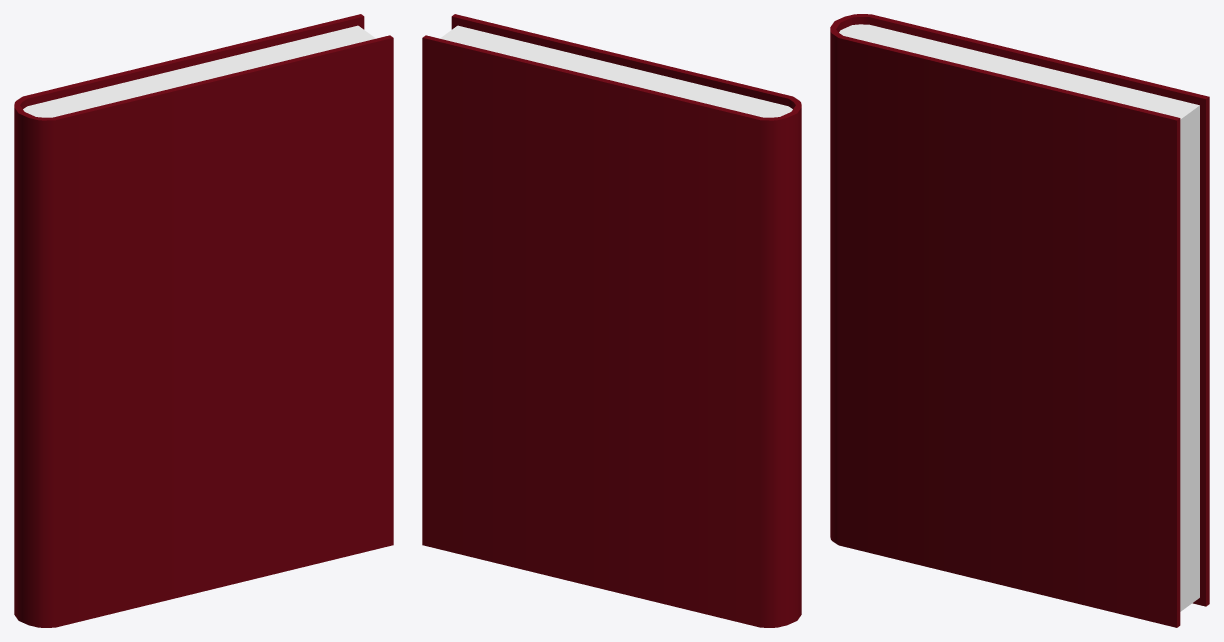
File: Book.fbx
3 views of the same model, side by side, from view 1: azimuth 30°, elevation 25°; view 2: azimuth 150°, elevation 25°; view 3: azimuth 330°, elevation 25° (orthographic).
Visible parts, largest first — view 1: Book; view 2: Book; view 3: Book.
Boxes of the visible parts, box(x1,y1,x2,y2) form: Book: box(14, 14, 393, 627); Book: box(422, 14, 801, 627); Book: box(830, 14, 1209, 627).
Size of what is drawn, in the model's own units: 20.83 by 28.16 by 3.27.
